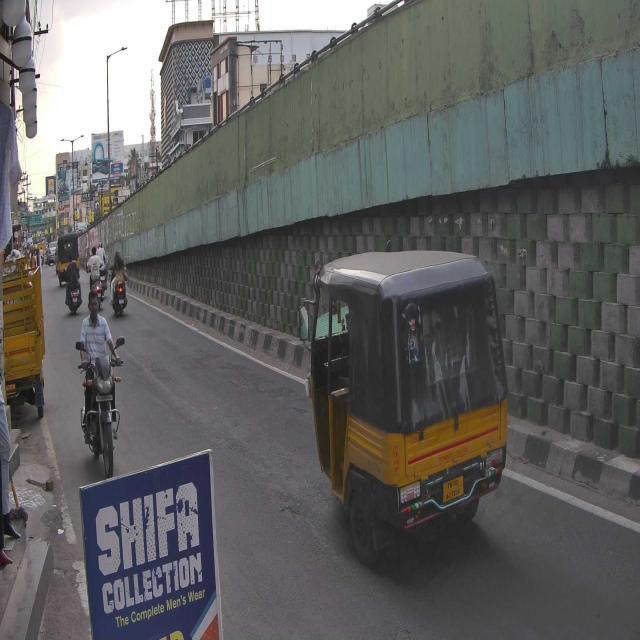single_rider: (76, 286, 124, 476)
